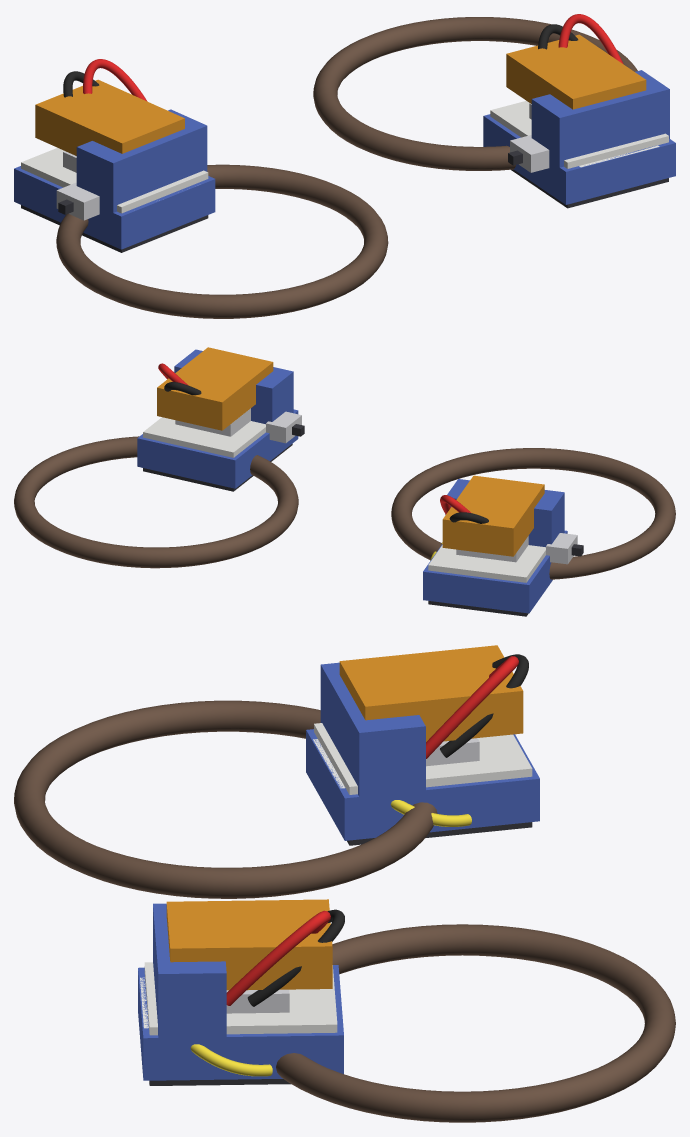
The model's file is smartconnect.glb.
The picture shows the model from 3 angles, top to bottom: view 1: azimuth 30°, elevation 25°; view 2: azimuth 150°, elevation 25°; view 3: azimuth 270°, elevation 25°; orthographic projection. The views are drawn at different scales.
Visible parts, largest first — view 1: FabricRing.001, FabricRing.002, Tape_Band_Top.002, Battery, Tape_Band_Top, Battery.002, Tape_Band_Mid, Tape_Band_Mid.002, Board_Xiao, Board_Xiao.002, Switch_Body, Switch_Body.002 (+4 smaller); view 2: FabricRing.002, FabricRing.001, Battery.002, Battery, Tape_Band_Mid.002, Tape_Band_Mid, Board_Xiao, Board_Xiao.002, Tape_Band_Top.002, Tape_Band_Top, Switch_Body.002, Switch_Body (+4 smaller); view 3: FabricRing.002, FabricRing.001, Battery, Battery.002, Tape_Band_Mid, Tape_Band_Top, Tape_Band_Mid.002, Tape_Band_Top.002, Board_Xiao.002, Board_Xiao, W_red.002, W_red (+8 smaller).
Boxes of the visible parts, x1,y1,x2,y2 form: FabricRing.001: (56, 164, 388, 318); FabricRing.002: (313, 17, 637, 170); Tape_Band_Top.002: (531, 70, 669, 167); Battery: (35, 79, 184, 155); Tape_Band_Top: (76, 109, 207, 215); Battery.002: (506, 34, 646, 109); Tape_Band_Mid: (14, 166, 215, 249); Tape_Band_Mid.002: (483, 114, 675, 204); Board_Xiao: (21, 147, 208, 213); Board_Xiao.002: (490, 100, 668, 168); Switch_Body: (56, 182, 99, 220); Switch_Body.002: (510, 135, 549, 172); FabricRing.002: (14, 436, 298, 568); FabricRing.001: (391, 448, 675, 579); Battery.002: (157, 347, 273, 430); Battery: (442, 475, 544, 556); Tape_Band_Mid.002: (137, 409, 298, 488); Tape_Band_Mid: (423, 530, 567, 613); Board_Xiao: (428, 545, 545, 582); Board_Xiao.002: (143, 417, 265, 457); Tape_Band_Top.002: (174, 349, 293, 424); Tape_Band_Top: (445, 479, 564, 547); Switch_Body.002: (266, 411, 301, 443); Switch_Body: (546, 533, 577, 564); FabricRing.002: (276, 924, 675, 1122); FabricRing.001: (14, 700, 437, 898); Battery: (339, 645, 523, 741); Battery.002: (166, 899, 332, 990); Tape_Band_Mid: (306, 729, 539, 840); Tape_Band_Top: (320, 662, 425, 802); Tape_Band_Mid.002: (138, 965, 343, 1080); Tape_Band_Top.002: (153, 903, 226, 1043); Board_Xiao.002: (144, 962, 337, 1035); Board_Xiao: (314, 723, 532, 794); W_red.002: (226, 910, 330, 1005); W_red: (426, 656, 518, 758).
Size of the model in its own units: 0.1105 by 0.0205 by 0.0775.
